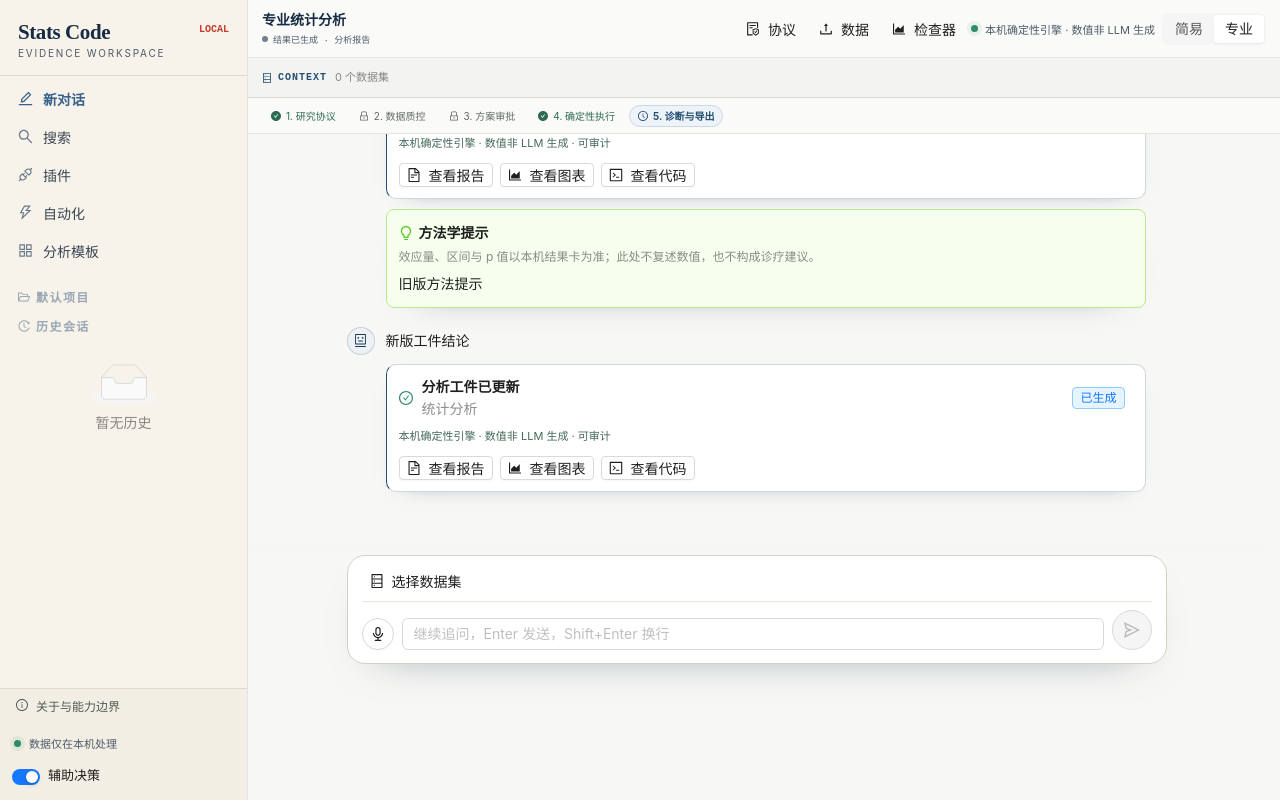
Test: ProModeView (Requirements 4.1, 4.3) › opens an older artifact even when legacy metadata has no run id
(page scrolled)
Expected: the text "结果已生成 · 分析报告" is shown, [262,33,370,46]
Click the button labelled "查看报告" below "分析工件已更新" at (446, 175), box [398,163,492,187]
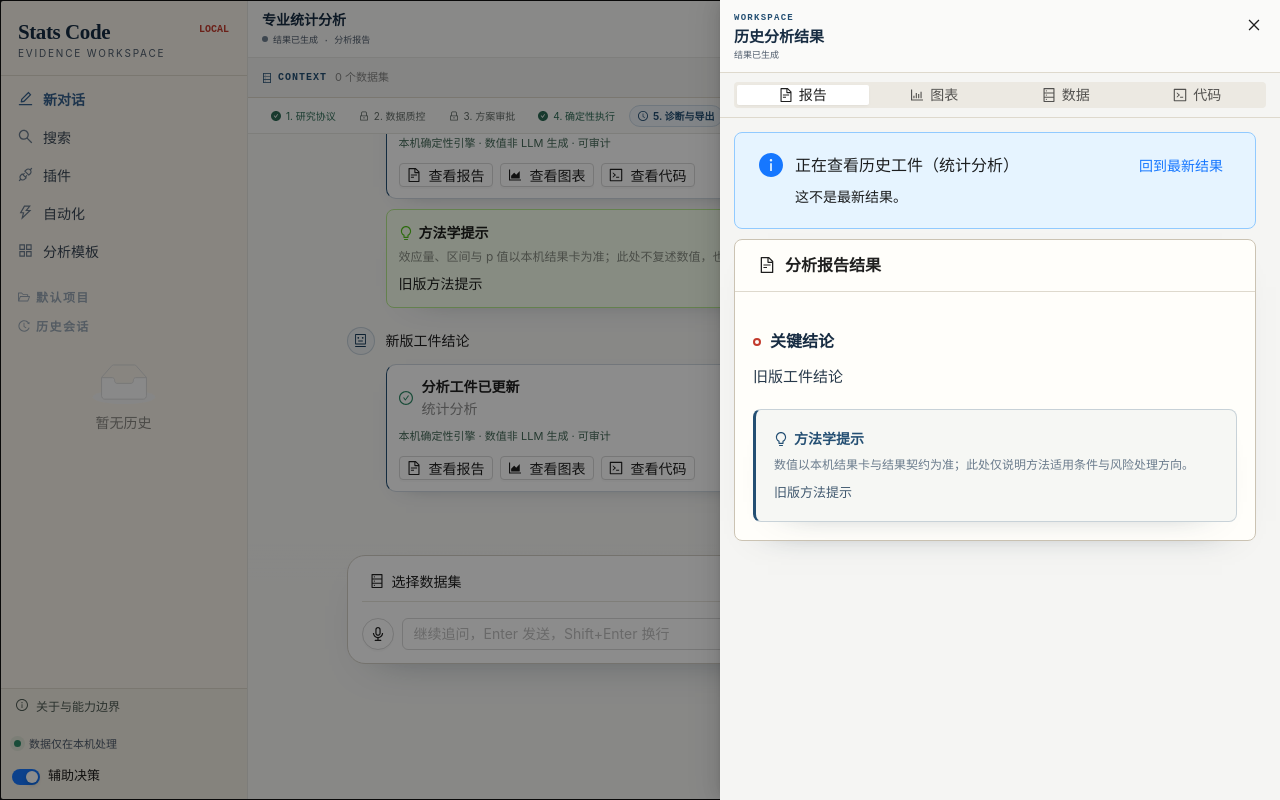
Expected: the element named "分析检查器" is shown, [720,0,1279,799]
Expected: the text "正在查看历史工件（统计分析）" is shown, [795,155,1019,175]
Expected: the text "旧版工件结论" is shown, [753,367,843,386]
